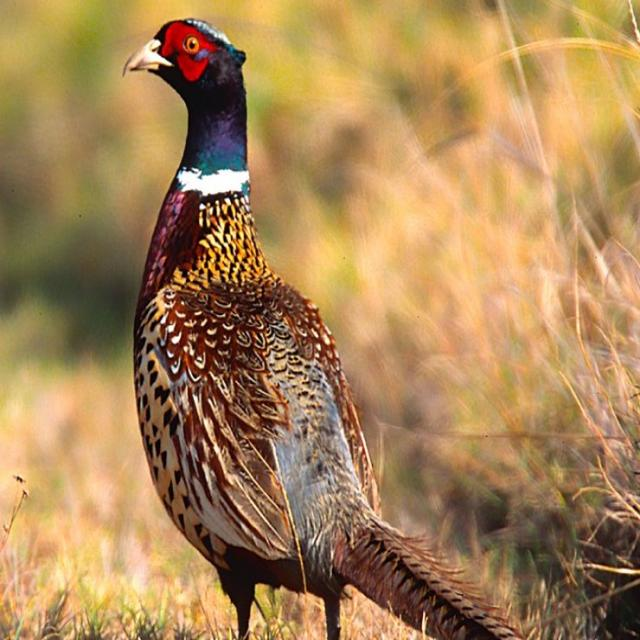pheasant: (122, 17, 524, 638)
